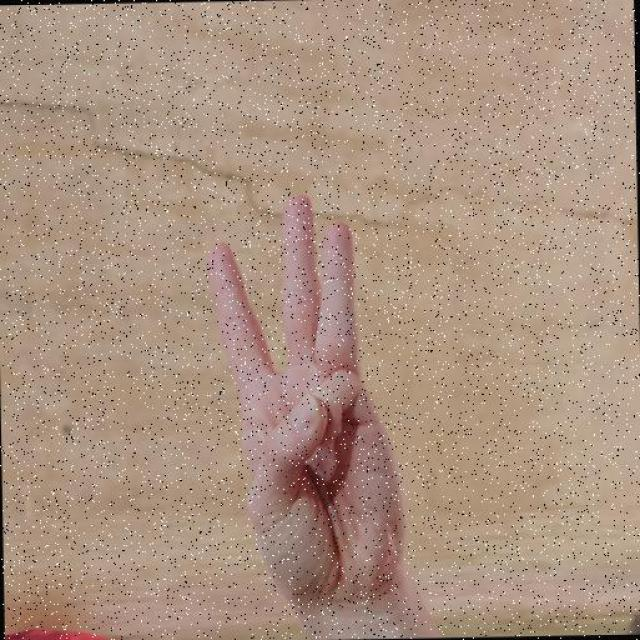W: (203, 189, 417, 617)
